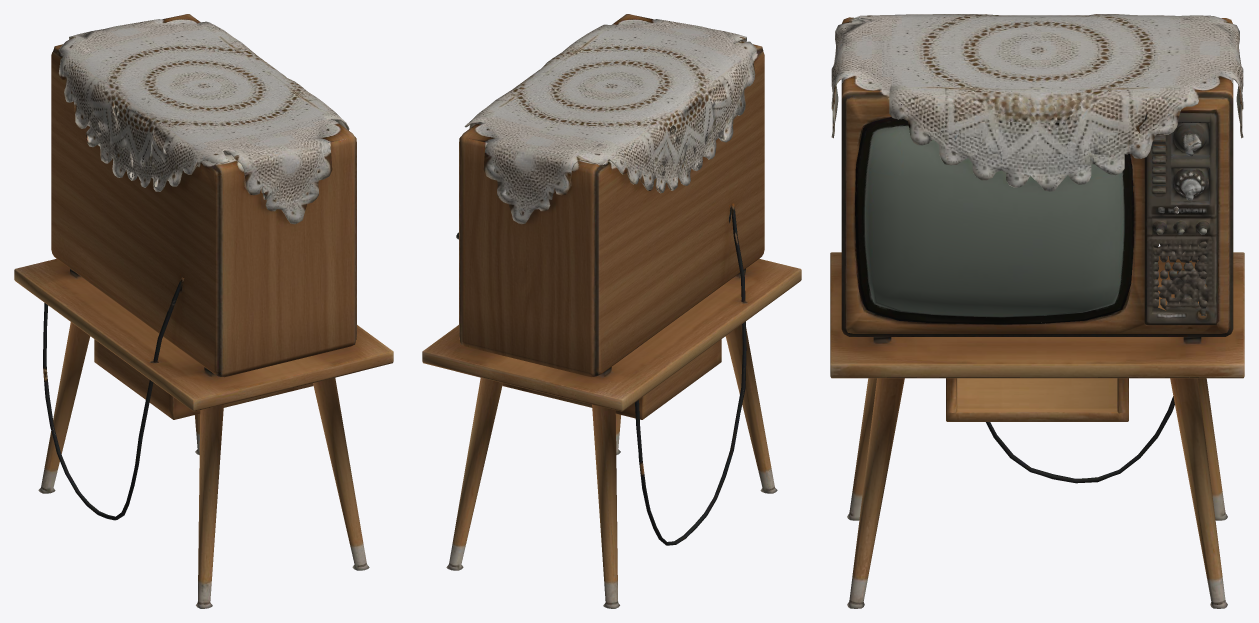
3 renders of one model, left to right at view 1: azimuth 30°, elevation 25°; view 2: azimuth 150°, elevation 25°; view 3: azimuth 270°, elevation 25°, orthographic. The views are drawn at different scales.
Parts seen in each view (by area): view 1: tripo_node_e2a01846-33be-4b07-8b99-f06ba; view 2: tripo_node_e2a01846-33be-4b07-8b99-f06ba; view 3: tripo_node_e2a01846-33be-4b07-8b99-f06ba.
Boxes of the visible parts, x1,y1,x2,y2 form: tripo_node_e2a01846-33be-4b07-8b99-f06ba: [14, 14, 393, 608]; tripo_node_e2a01846-33be-4b07-8b99-f06ba: [422, 14, 801, 608]; tripo_node_e2a01846-33be-4b07-8b99-f06ba: [830, 14, 1244, 608].
Size of the model in its own units: 0.4707 by 0.998 by 0.7285.
1 material, 1 textured.
